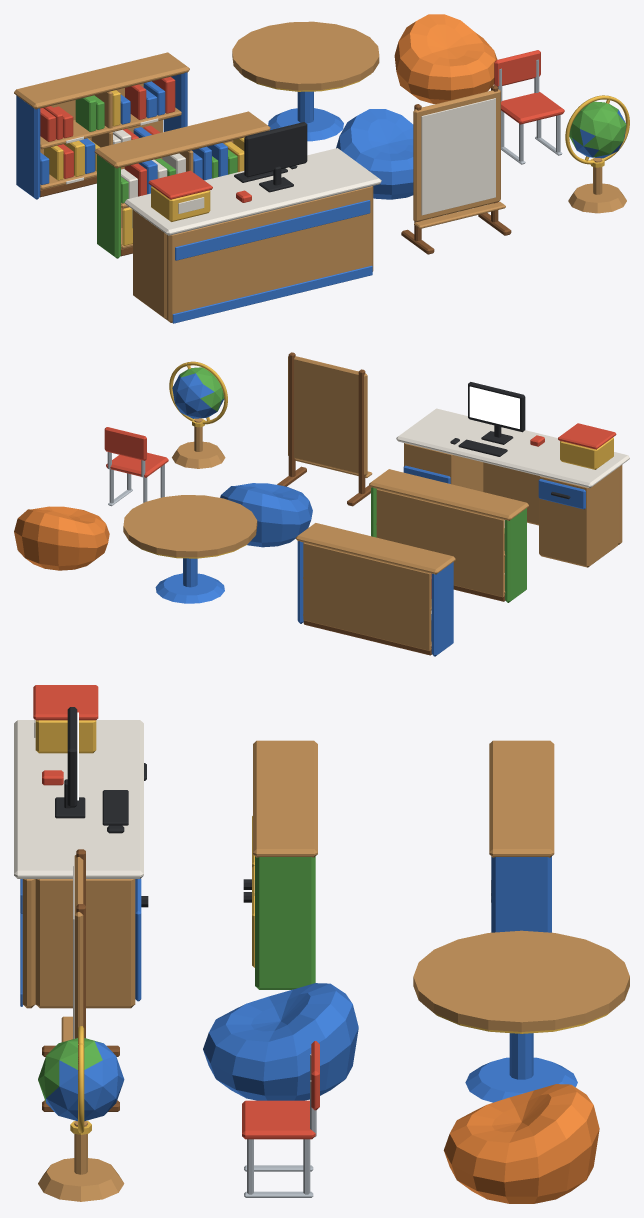
Rendered from school-library-set.glb.
The picture shows the model from 3 angles, top to bottom: view 1: azimuth 30°, elevation 25°; view 2: azimuth 150°, elevation 25°; view 3: azimuth 270°, elevation 25°; orthographic projection. The views are drawn at different scales.
Visible parts, largest first — view 1: CheckoutDesk_Front, ReadingTable_Top, Poster_Stand_Poster, CheckoutDesk_Top, BeanBag_Orange_Body, BeanBag_Blue_Body, Bookshelf_Low_Top, Bookshelf_Cabinet_Top, CheckoutDesk_PedL, CheckoutDesk_Stripe, CheckoutDesk_Monitor, Poster_Stand_Board (+22 smaller); view 2: Bookshelf_Low_Back, Bookshelf_Cabinet_Back, Poster_Stand_Board, ReadingTable_Top, CheckoutDesk_Top, CheckoutDesk_PedL, BeanBag_Orange_Body, BeanBag_Blue_Body, Bookshelf_Low_Top, Bookshelf_Cabinet_Top, CheckoutDesk_Front, CheckoutDesk_PedR (+19 smaller); view 3: ReadingTable_Top, CheckoutDesk_Top, BeanBag_Orange_Body, BeanBag_Blue_Body, CheckoutDesk_PedR, Bookshelf_Cabinet_SideR, Bookshelf_Low_Top, Bookshelf_Cabinet_Top, Globe, Bookshelf_Low_SideR, ReadingTable_Base, Chair_Seat (+10 smaller).
Boxes of the visible parts, <box> form: CheckoutDesk_Front: <box>167,186,373,322</box>; ReadingTable_Top: <box>232,21,379,90</box>; Poster_Stand_Poster: <box>421,98,495,215</box>; CheckoutDesk_Top: <box>124,148,381,235</box>; BeanBag_Orange_Body: <box>394,14,497,103</box>; BeanBag_Blue_Body: <box>336,109,413,199</box>; Bookshelf_Low_Top: <box>14,52,189,109</box>; Bookshelf_Cabinet_Top: <box>94,111,270,168</box>; CheckoutDesk_PedL: <box>133,210,166,319</box>; CheckoutDesk_Stripe: <box>175,200,370,260</box>; CheckoutDesk_Monitor: <box>244,122,307,177</box>; Poster_Stand_Board: <box>413,89,500,221</box>; Bookshelf_Low_Back: <box>303,542,431,650</box>; Bookshelf_Cabinet_Back: <box>376,489,504,597</box>; Poster_Stand_Board: <box>288,356,367,475</box>; ReadingTable_Top: <box>123,495,257,557</box>; CheckoutDesk_Top: <box>396,408,629,488</box>; CheckoutDesk_PedL: <box>539,468,618,567</box>; BeanBag_Orange_Body: <box>14,506,109,570</box>; BeanBag_Blue_Body: <box>220,483,312,547</box>; Bookshelf_Low_Top: <box>295,523,455,574</box>; Bookshelf_Cabinet_Top: <box>369,469,528,520</box>; CheckoutDesk_Front: <box>483,462,622,544</box>; CheckoutDesk_PedR: <box>404,443,483,491</box>; ReadingTable_Top: <box>413,930,629,1031</box>; CheckoutDesk_Top: <box>14,720,143,878</box>; BeanBag_Orange_Body: <box>443,1084,599,1203</box>; BeanBag_Blue_Body: <box>203,983,358,1100</box>; CheckoutDesk_PedR: <box>35,879,135,1008</box>; Bookshelf_Cabinet_SideR: <box>255,856,315,989</box>; Bookshelf_Low_Top: <box>489,740,554,857</box>; Bookshelf_Cabinet_Top: <box>253,740,317,857</box>; Globe: <box>38,1038,124,1121</box>; Bookshelf_Low_SideR: <box>491,856,551,932</box>; ReadingTable_Base: <box>465,1057,577,1102</box>; Chair_Seat: <box>242,1100,315,1139</box>.
Size of the model in its own units: 19.43 by 5.7 by 14.22.
